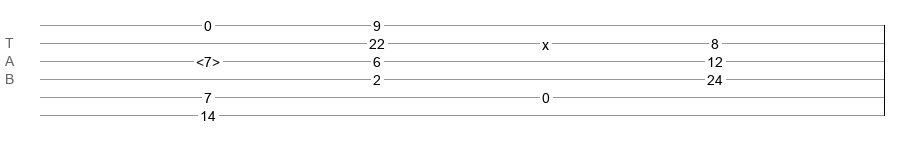0: (204, 18, 212, 28), (542, 90, 550, 100)
12: (707, 54, 723, 64)
14: (200, 108, 216, 118)
2: (373, 72, 381, 82)
22: (369, 36, 385, 46)
24: (707, 72, 723, 82)
6: (373, 54, 381, 64)
7: (204, 90, 212, 100)
8: (711, 36, 719, 46)
9: (373, 18, 381, 28)
harmonic: (196, 54, 220, 64)
x: (542, 37, 549, 45)
